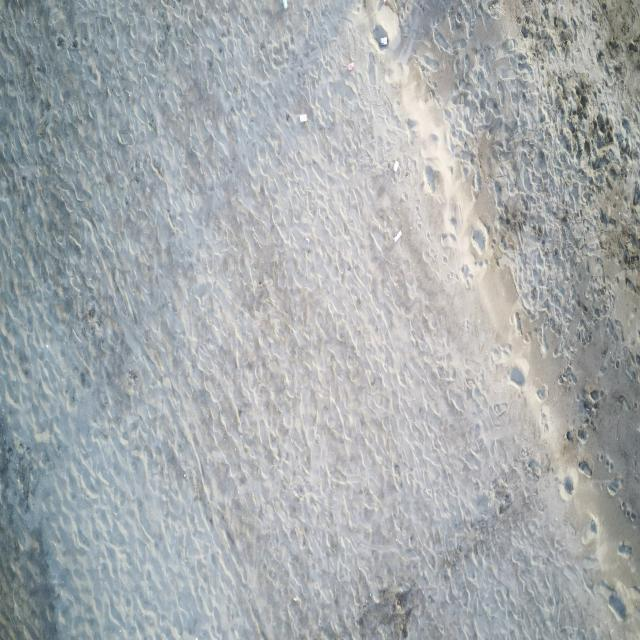tin-and-aluminum-cans: (393, 230, 402, 242), (299, 112, 307, 124), (380, 36, 387, 46), (347, 61, 354, 71), (393, 161, 399, 172), (282, 0, 288, 10)
